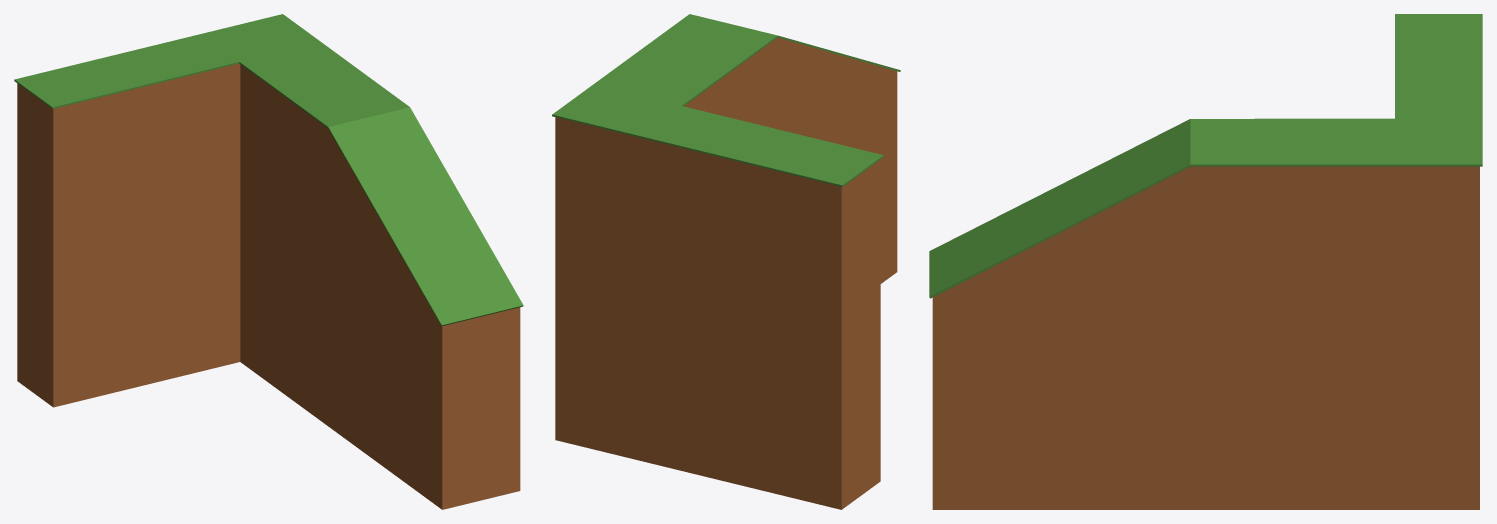
The model's file is O_SPlatform8.glb.
3 views of the same model, side by side, from view 1: azimuth 30°, elevation 25°; view 2: azimuth 150°, elevation 25°; view 3: azimuth 270°, elevation 25° (orthographic). The views are drawn at different scales.
Visible parts, largest first — view 1: SPlatform8; view 2: SPlatform8; view 3: SPlatform8.
Boxes of the visible parts, x1,y1,x2,y2 form: SPlatform8: [14, 14, 523, 509]; SPlatform8: [552, 14, 900, 509]; SPlatform8: [929, 14, 1482, 509].
Size of what is drawn, in the model's own units: 17.25 by 18.5 by 26.78.
